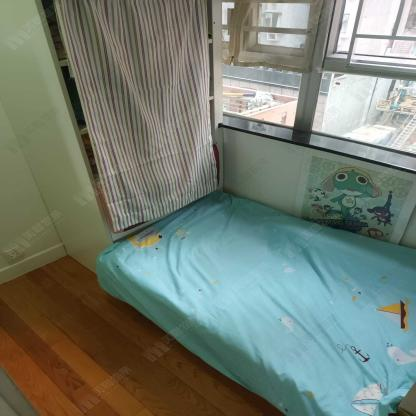Bed: (97, 189, 416, 416)
